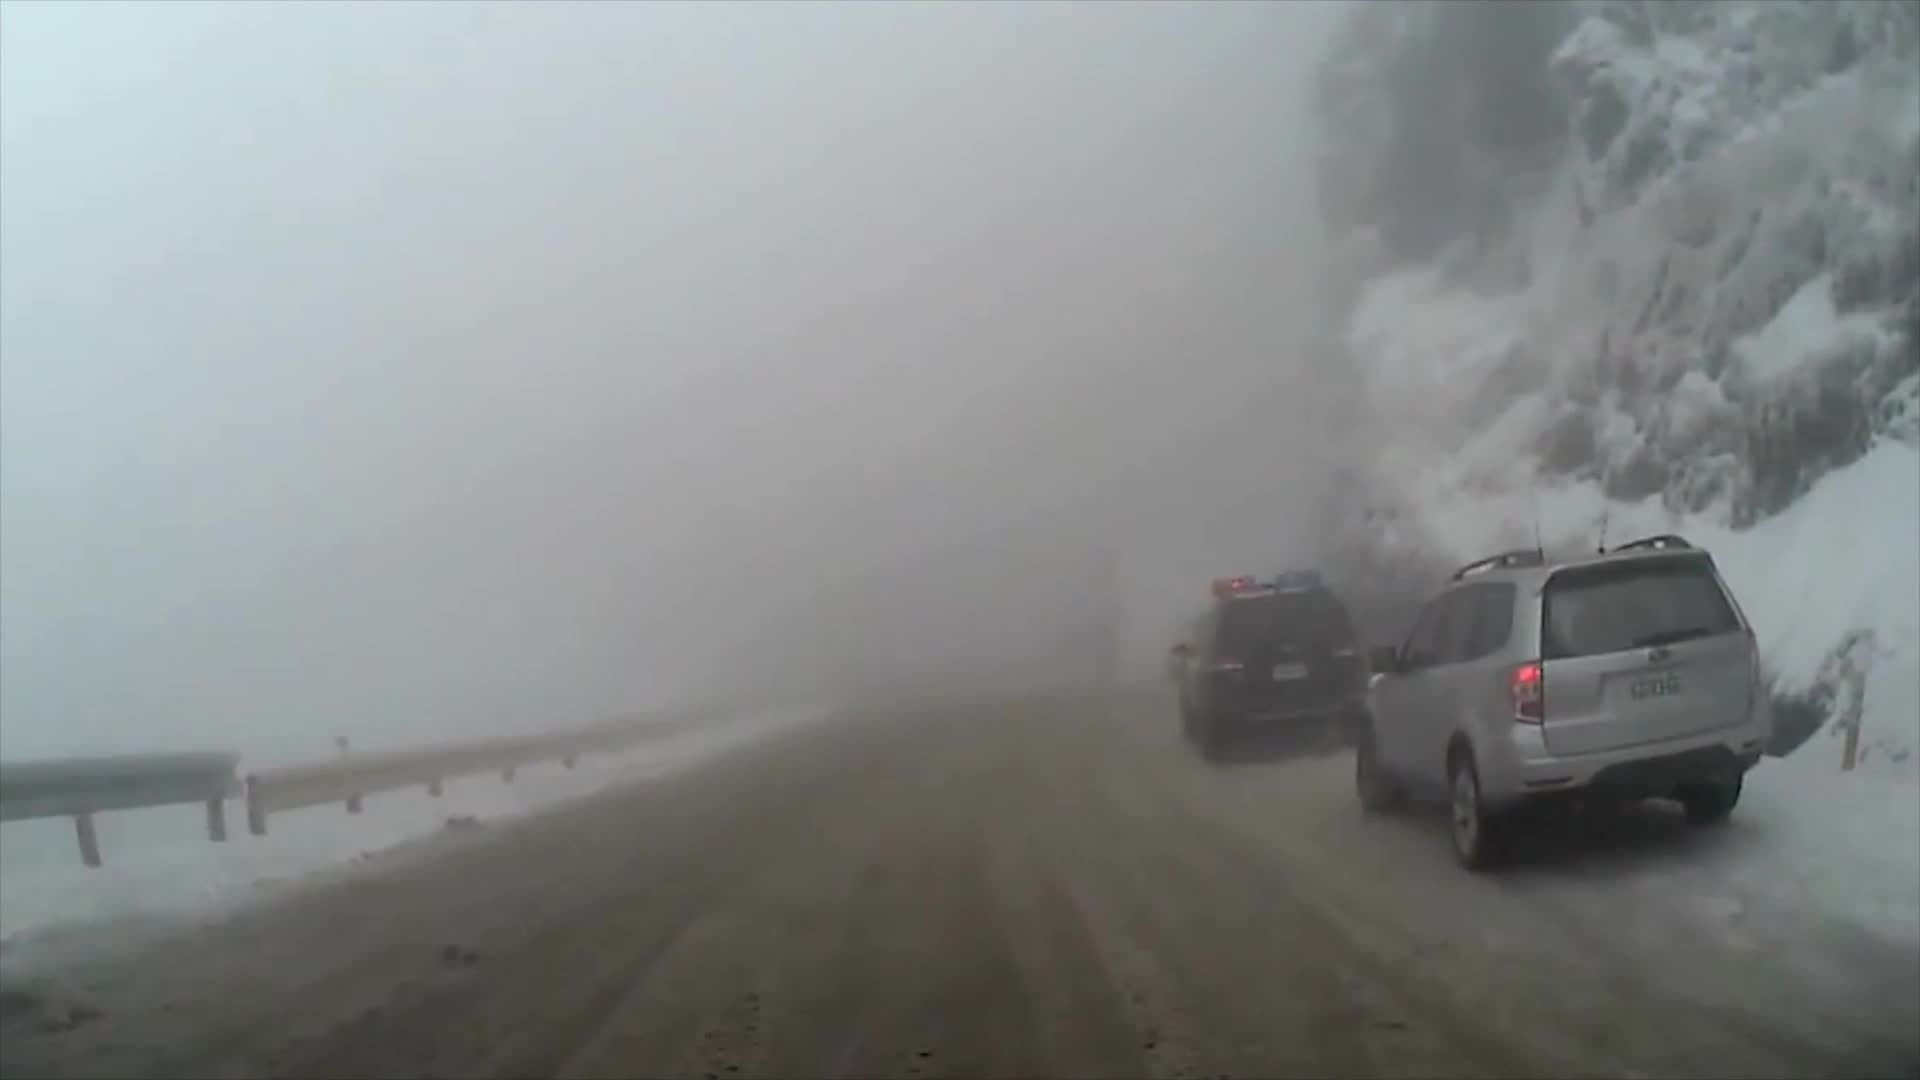vehicle: (1354, 527, 1776, 866), (1167, 560, 1371, 758)
